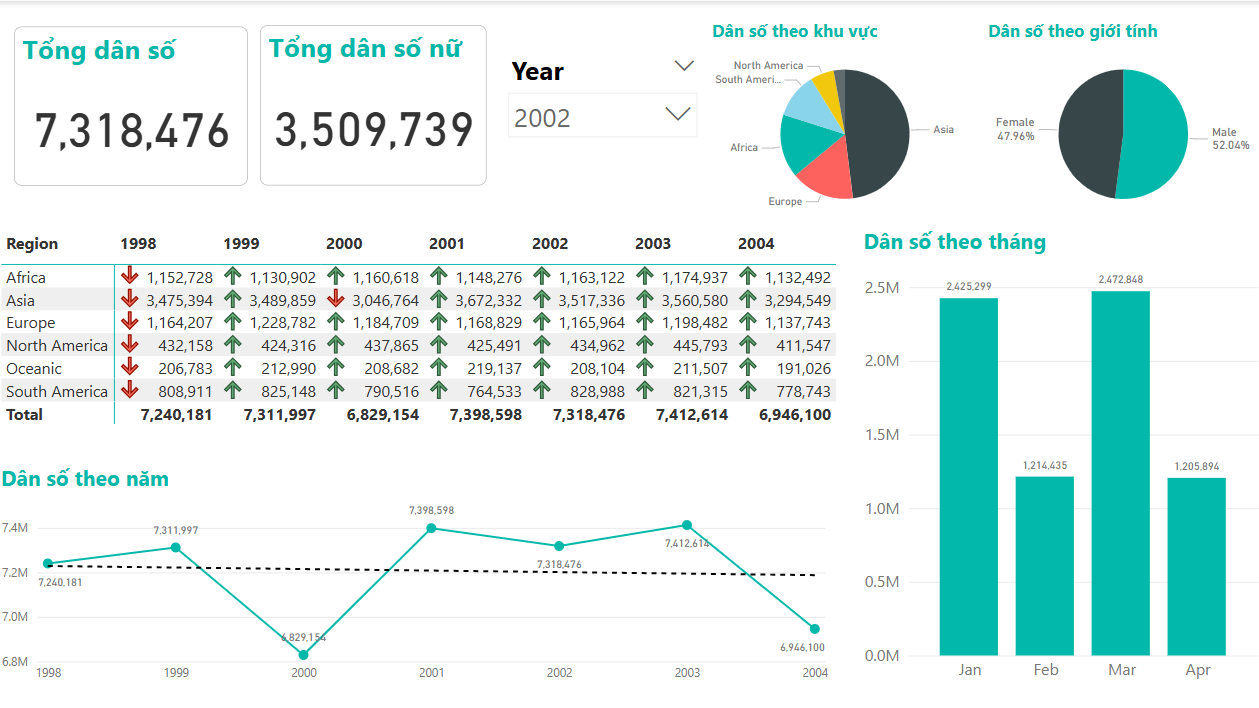

The page's visual inventory and layout, read from the dashboard file:
{"tool":"powerbi","page":{"name":"Page 1","canvas":[1280,720],"ordinal":5},"visuals":[{"type":"card","title":"Tổng dân số ","fields":{"Values":["_Measures.Pop"]},"box":[18.2,25.7,236.2,160.5],"z":0},{"type":"card","title":"Tổng dân số nữ","fields":{"Values":["_Measures.Pop_female"]},"box":[266.5,24.2,228.6,162],"z":1000},{"type":"slicer","fields":{"Values":["Dim_Date.Year"]},"box":[507.3,45.4,210.5,122.7],"z":2000},{"type":"pivotTable","fields":{"Values":["_Measures.Pop"],"Columns":["Dim_Date.Year"],"Rows":["Dim_Location.Region"]},"box":[0,227.1,870.7,230.2],"z":3000},{"type":"clusteredColumnChart","title":"Dân số theo tháng","fields":{"Category":["Dim_Date.Month_name"],"Y":["_Measures.Pop"]},"box":[870.7,227.1,408.8,469.4],"z":4000},{"type":"lineChart","title":"Dân số theo năm","fields":{"Y":["_Measures.Pop"],"Category":["Dim_Date.Year"]},"box":[0,466.4,844.9,230.2],"z":5000},{"type":"pieChart","title":"Dân số theo khu vực","fields":{"Category":["Dim_Location.Region"],"Y":["Sum(Fact_Survey.Total_Pop)"]},"box":[717.7,18.2,278.6,209],"z":6000},{"type":"pieChart","title":"Dân số theo giới tính","fields":{"Category":["Fact_Survey.Gender"],"Y":["Sum(Fact_Survey.Total_Pop)"]},"box":[996.3,18.2,283.2,209],"z":7000}]}

Visuals, with their boxes in screenshot pixels (x1, y1, x2, y2), scaled from the page's 1280x720 canvas onto the 1259x708 screenshot:
"Tổng dân số " card: region(18, 25, 250, 183)
"Tổng dân số nữ" card: region(262, 24, 487, 183)
slicer - Dim_Date.Year: region(499, 45, 706, 165)
pivotTable - _Measures.Pop x Dim_Date.Year: region(0, 223, 856, 450)
"Dân số theo tháng" clusteredColumnChart: region(856, 223, 1258, 685)
"Dân số theo năm" lineChart: region(0, 459, 831, 685)
"Dân số theo khu vực" pieChart: region(706, 18, 980, 223)
"Dân số theo giới tính" pieChart: region(980, 18, 1258, 223)
